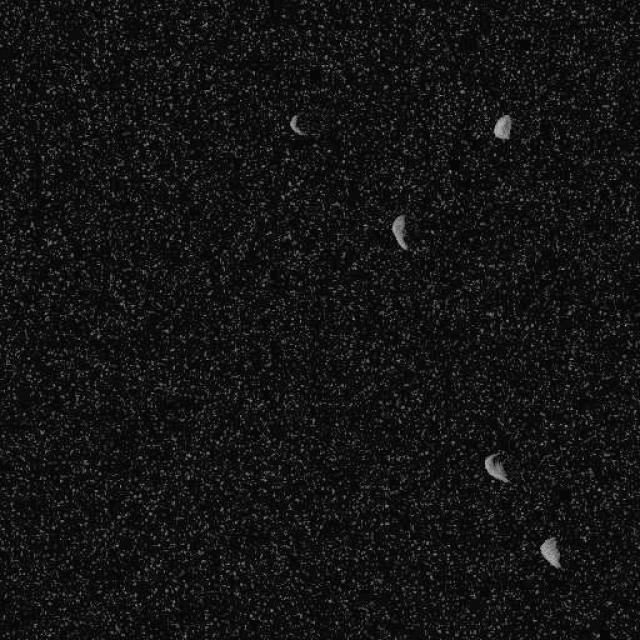D2: (482, 451, 510, 484), (539, 535, 561, 570), (390, 212, 409, 252), (491, 112, 511, 140), (288, 112, 306, 136)
